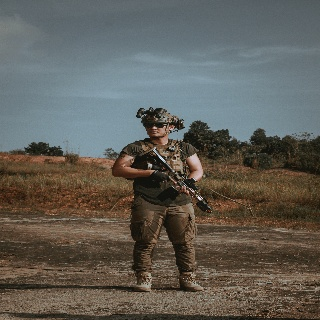rifle: (136, 146, 216, 213)
